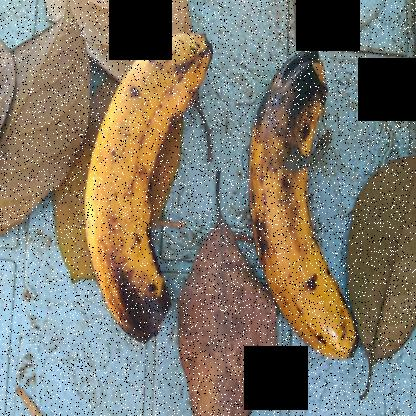overripe: (80, 27, 218, 363)
rotten: (236, 26, 378, 367)
